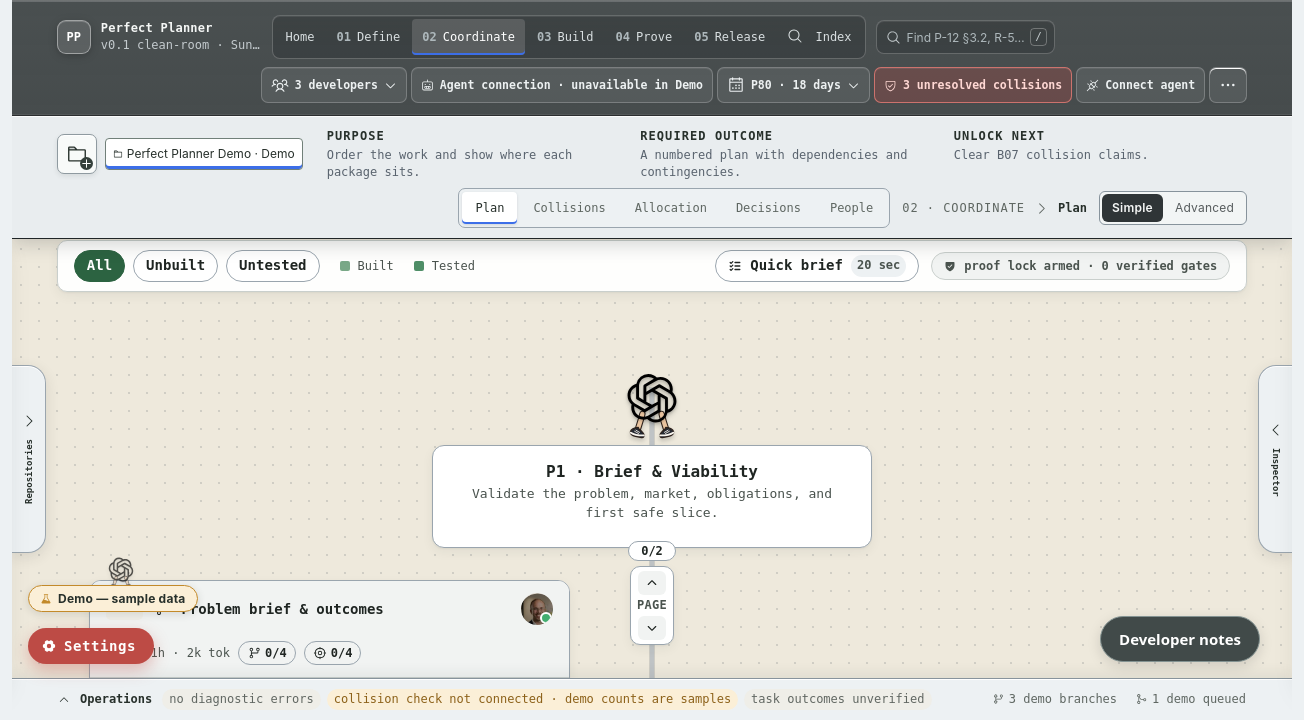
Test: Demo controls are honest about being sample data › the sample orchestrator feed is labelled sample, with no unread pip or fake timestamps
Click the button with class "head-orchestrator-character": (652, 407) [618,373,686,441]
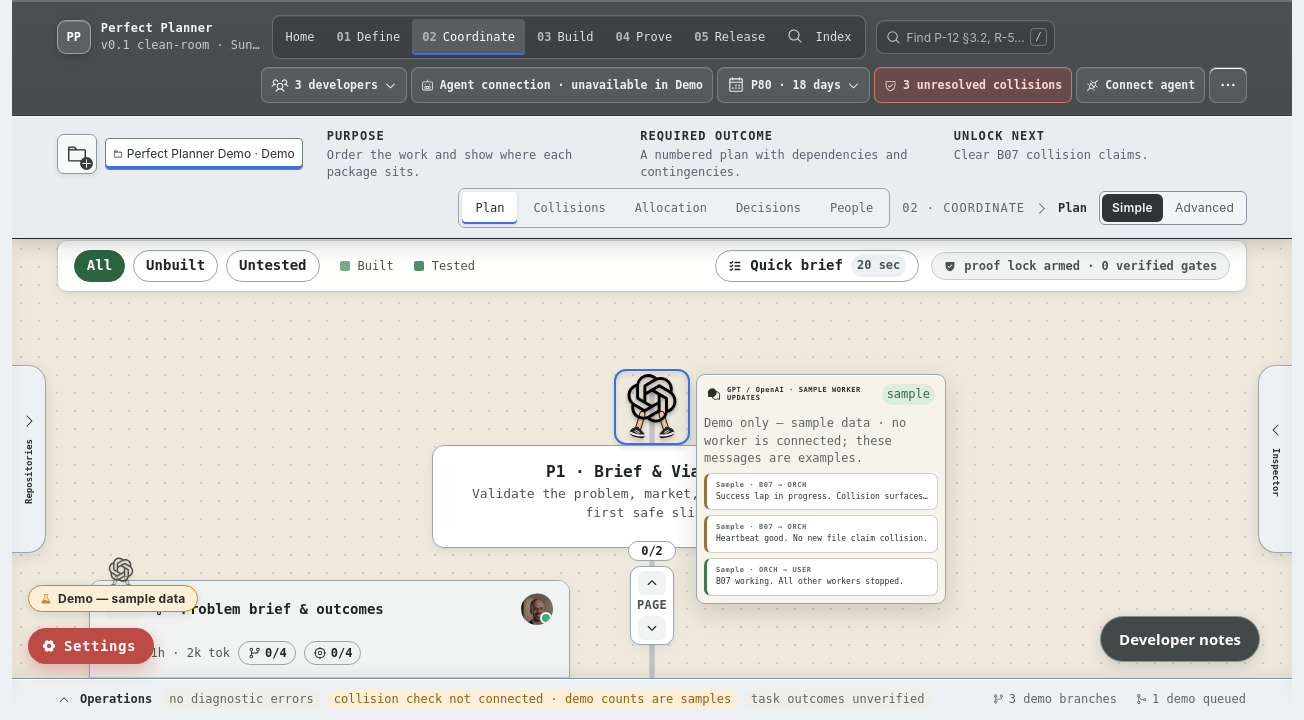
Now the element with class "orchestrator-popover" shows "SAMPLE", box [887,387,930,401]
